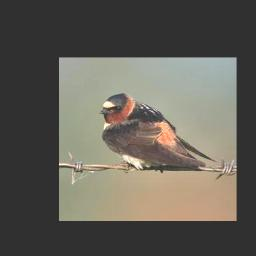Swallow: (99, 91, 218, 173)
